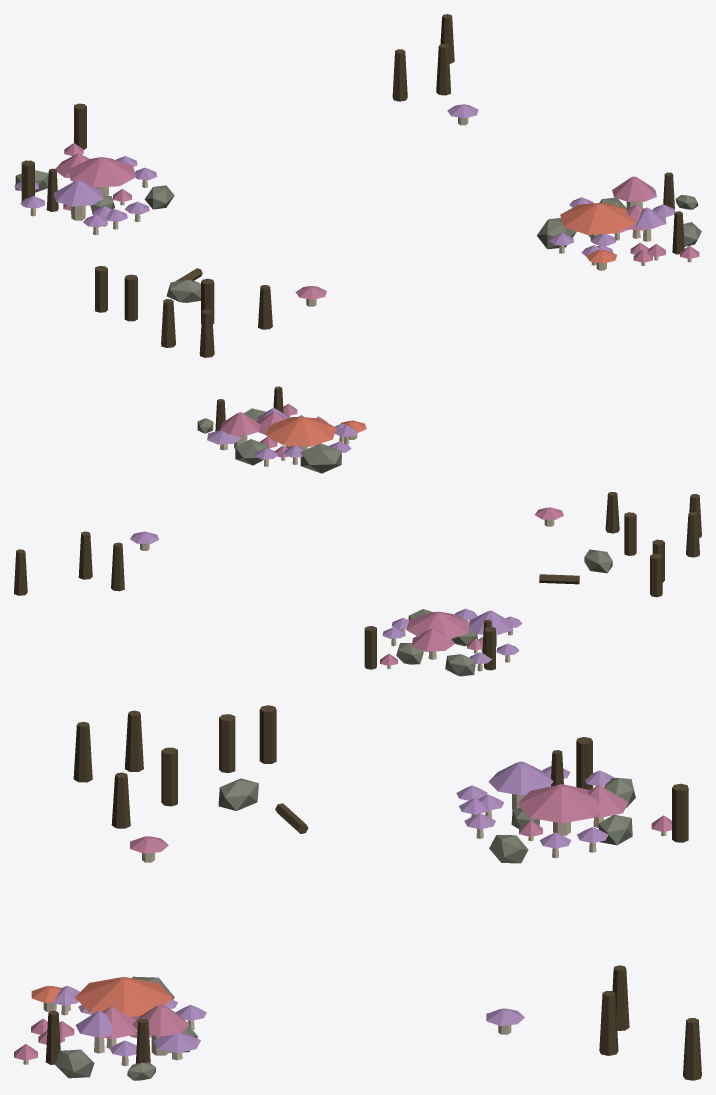
Rendered from mushroom_glen_solid_props.fbx.
3 views of the same model, one above another, from view 1: azimuth 30°, elevation 25°; view 2: azimuth 150°, elevation 25°; view 3: azimuth 270°, elevation 25° (orthographic). The views are drawn at different scales.
Visible parts, largest first — view 1: chunk_mushroom_glen__PropsSolid; view 2: chunk_mushroom_glen__PropsSolid; view 3: chunk_mushroom_glen__PropsSolid.
Boxes of the visible parts, left/top/right/bottom form: chunk_mushroom_glen__PropsSolid: left=14, top=14, right=701, bottom=357; chunk_mushroom_glen__PropsSolid: left=14, top=386, right=701, bottom=676; chunk_mushroom_glen__PropsSolid: left=14, top=705, right=701, bottom=1080.
Size of the model in its own units: 195 by 18.66 by 168.
